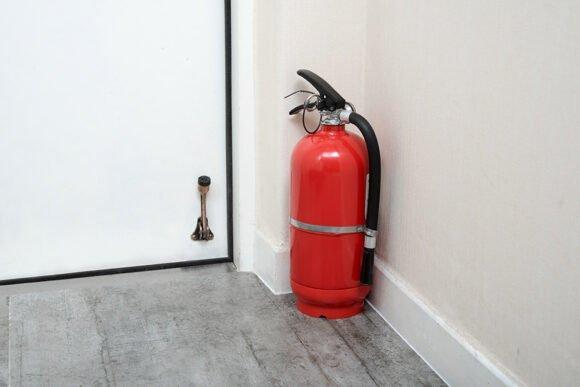floor-kept: (274, 57, 401, 334)
